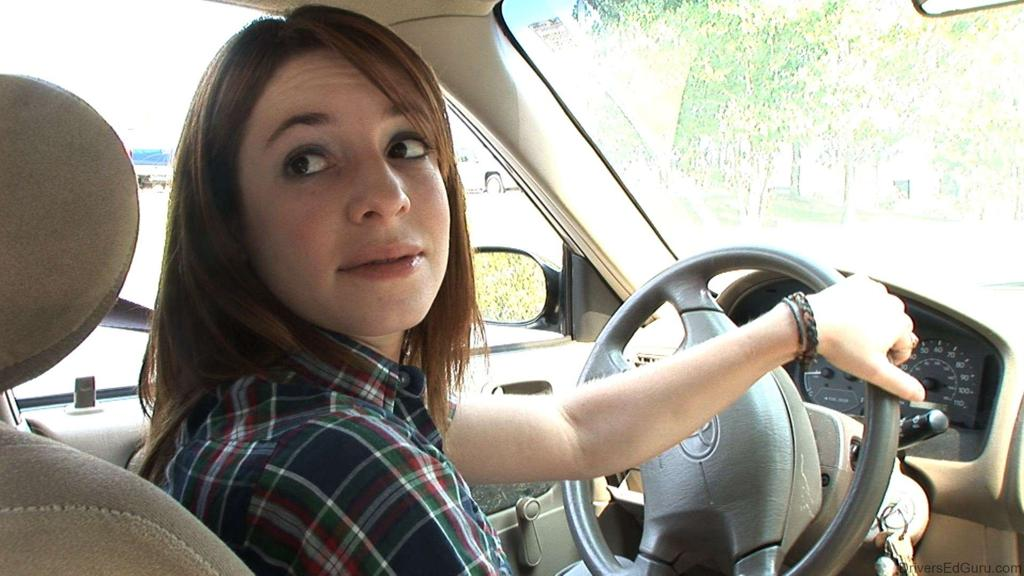face: (242, 50, 452, 330)
